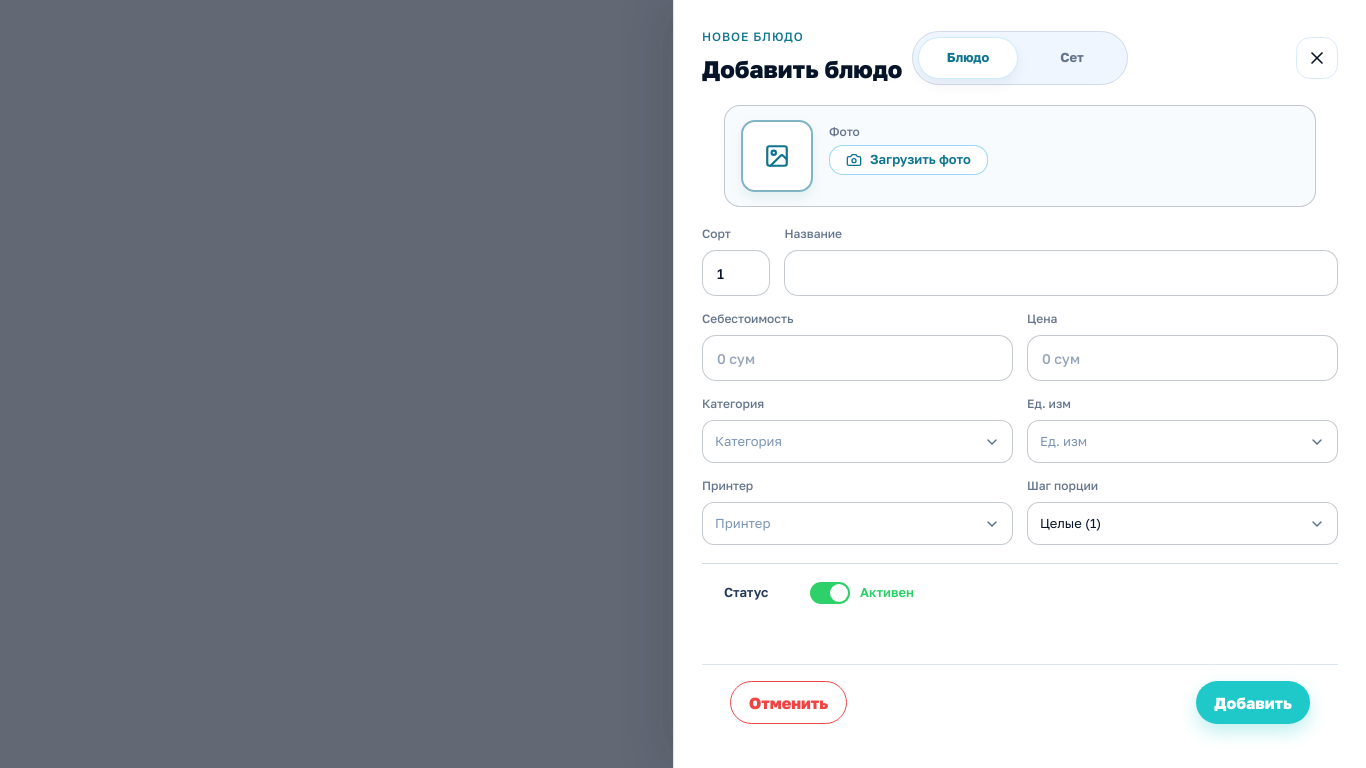
Dishes drawer switches › starts with empty money inputs and a zero-price placeholder for direct typing
Type "12500" into the field with placeholder "0 сум" at (858, 358), box x1=702 y1=335 x2=1013 y2=381
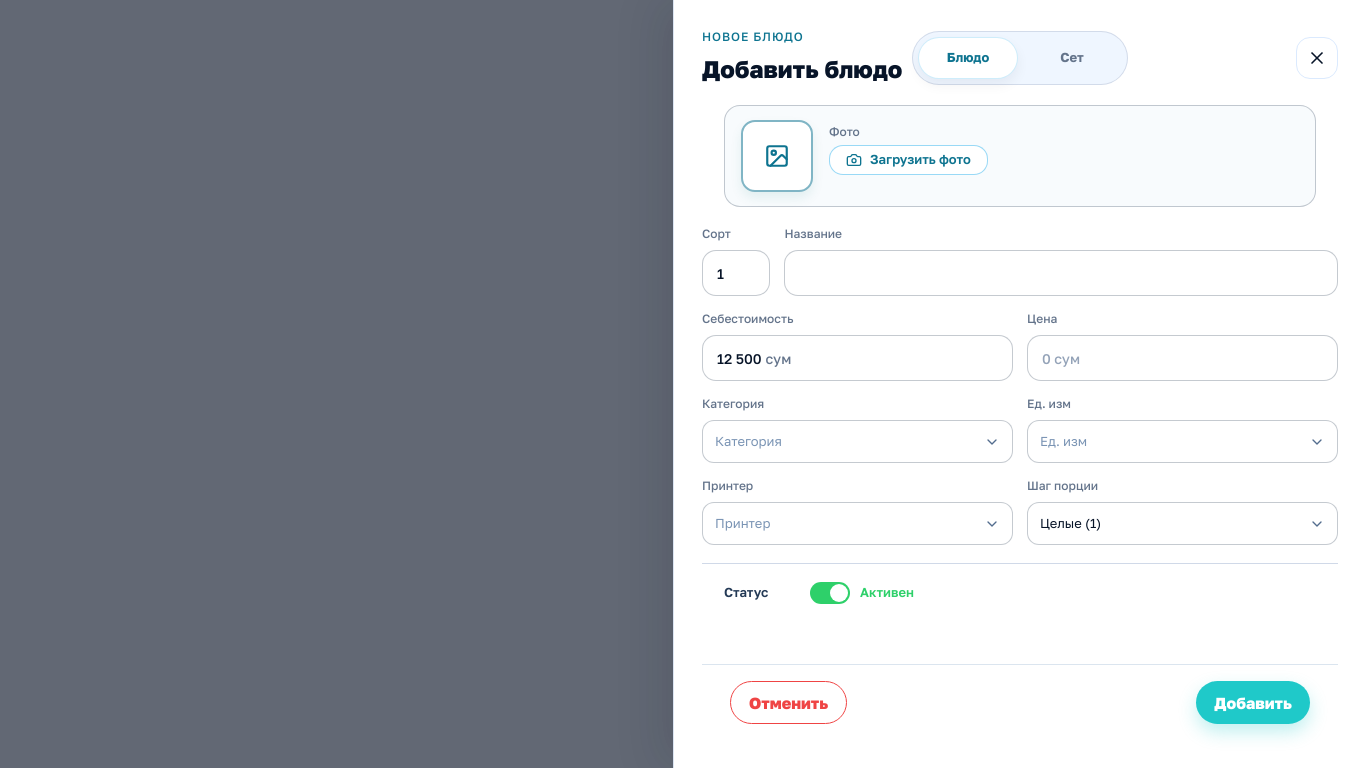
Type "40000" into the field with placeholder "0 сум" at (1182, 358), box x1=1027 y1=335 x2=1338 y2=381
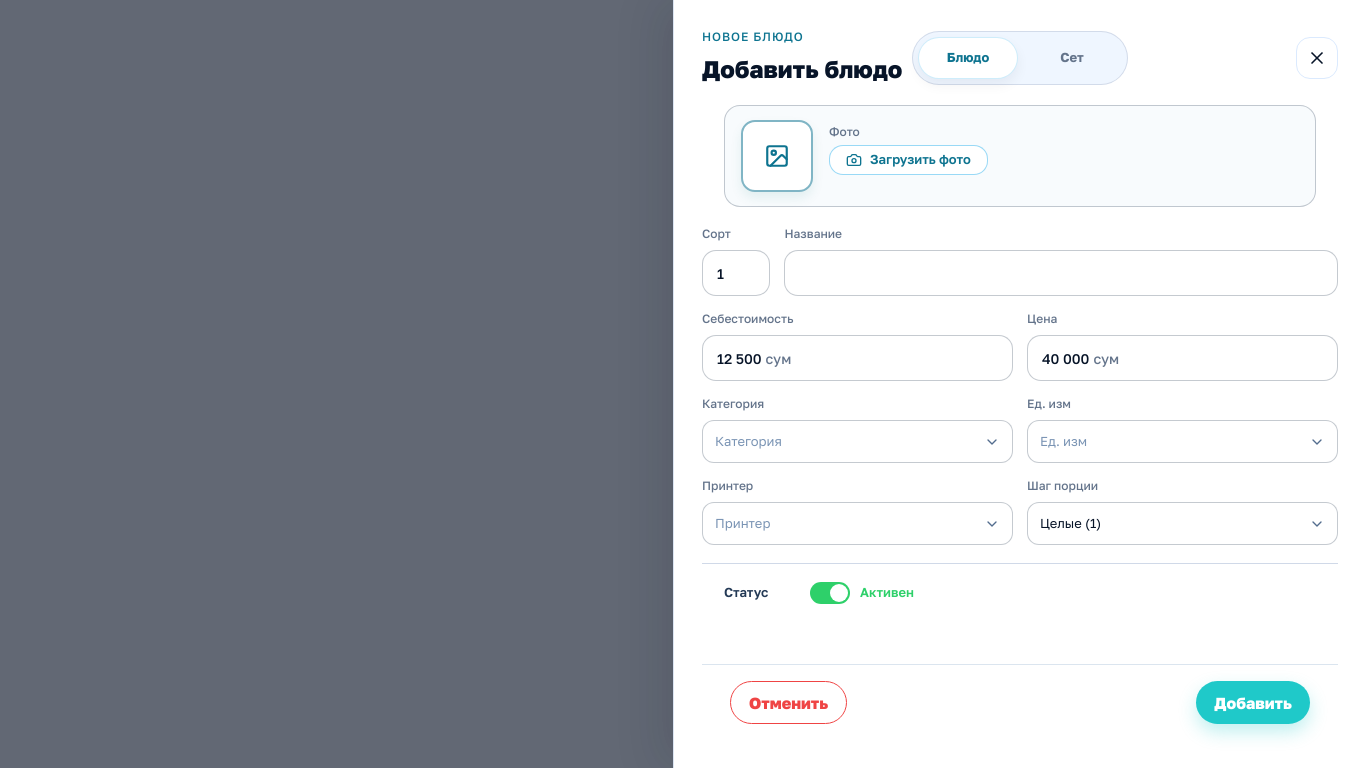
Expected: the field with placeholder "0 сум" holds "12 500", x1=702 y1=335 x2=1013 y2=381
Expected: the field with placeholder "0 сум" holds "40 000", x1=1027 y1=335 x2=1338 y2=381
